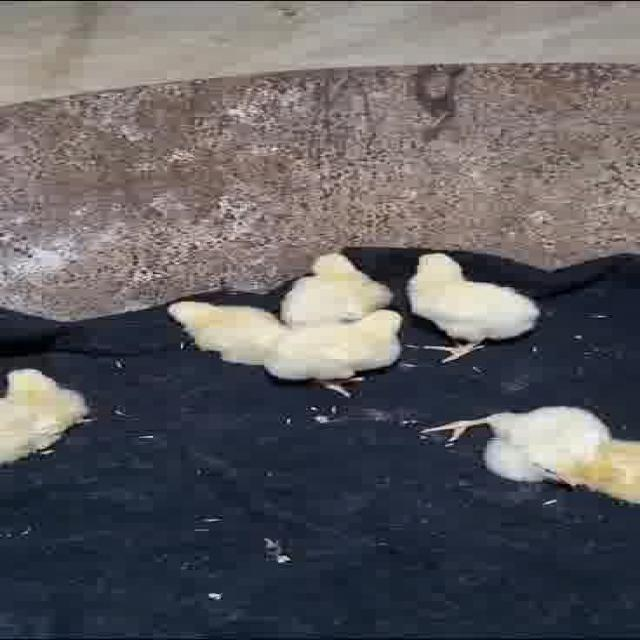poussin: (425, 401, 640, 502), (408, 250, 539, 358), (269, 306, 419, 388), (165, 295, 299, 365), (278, 244, 396, 318), (0, 366, 100, 452)
